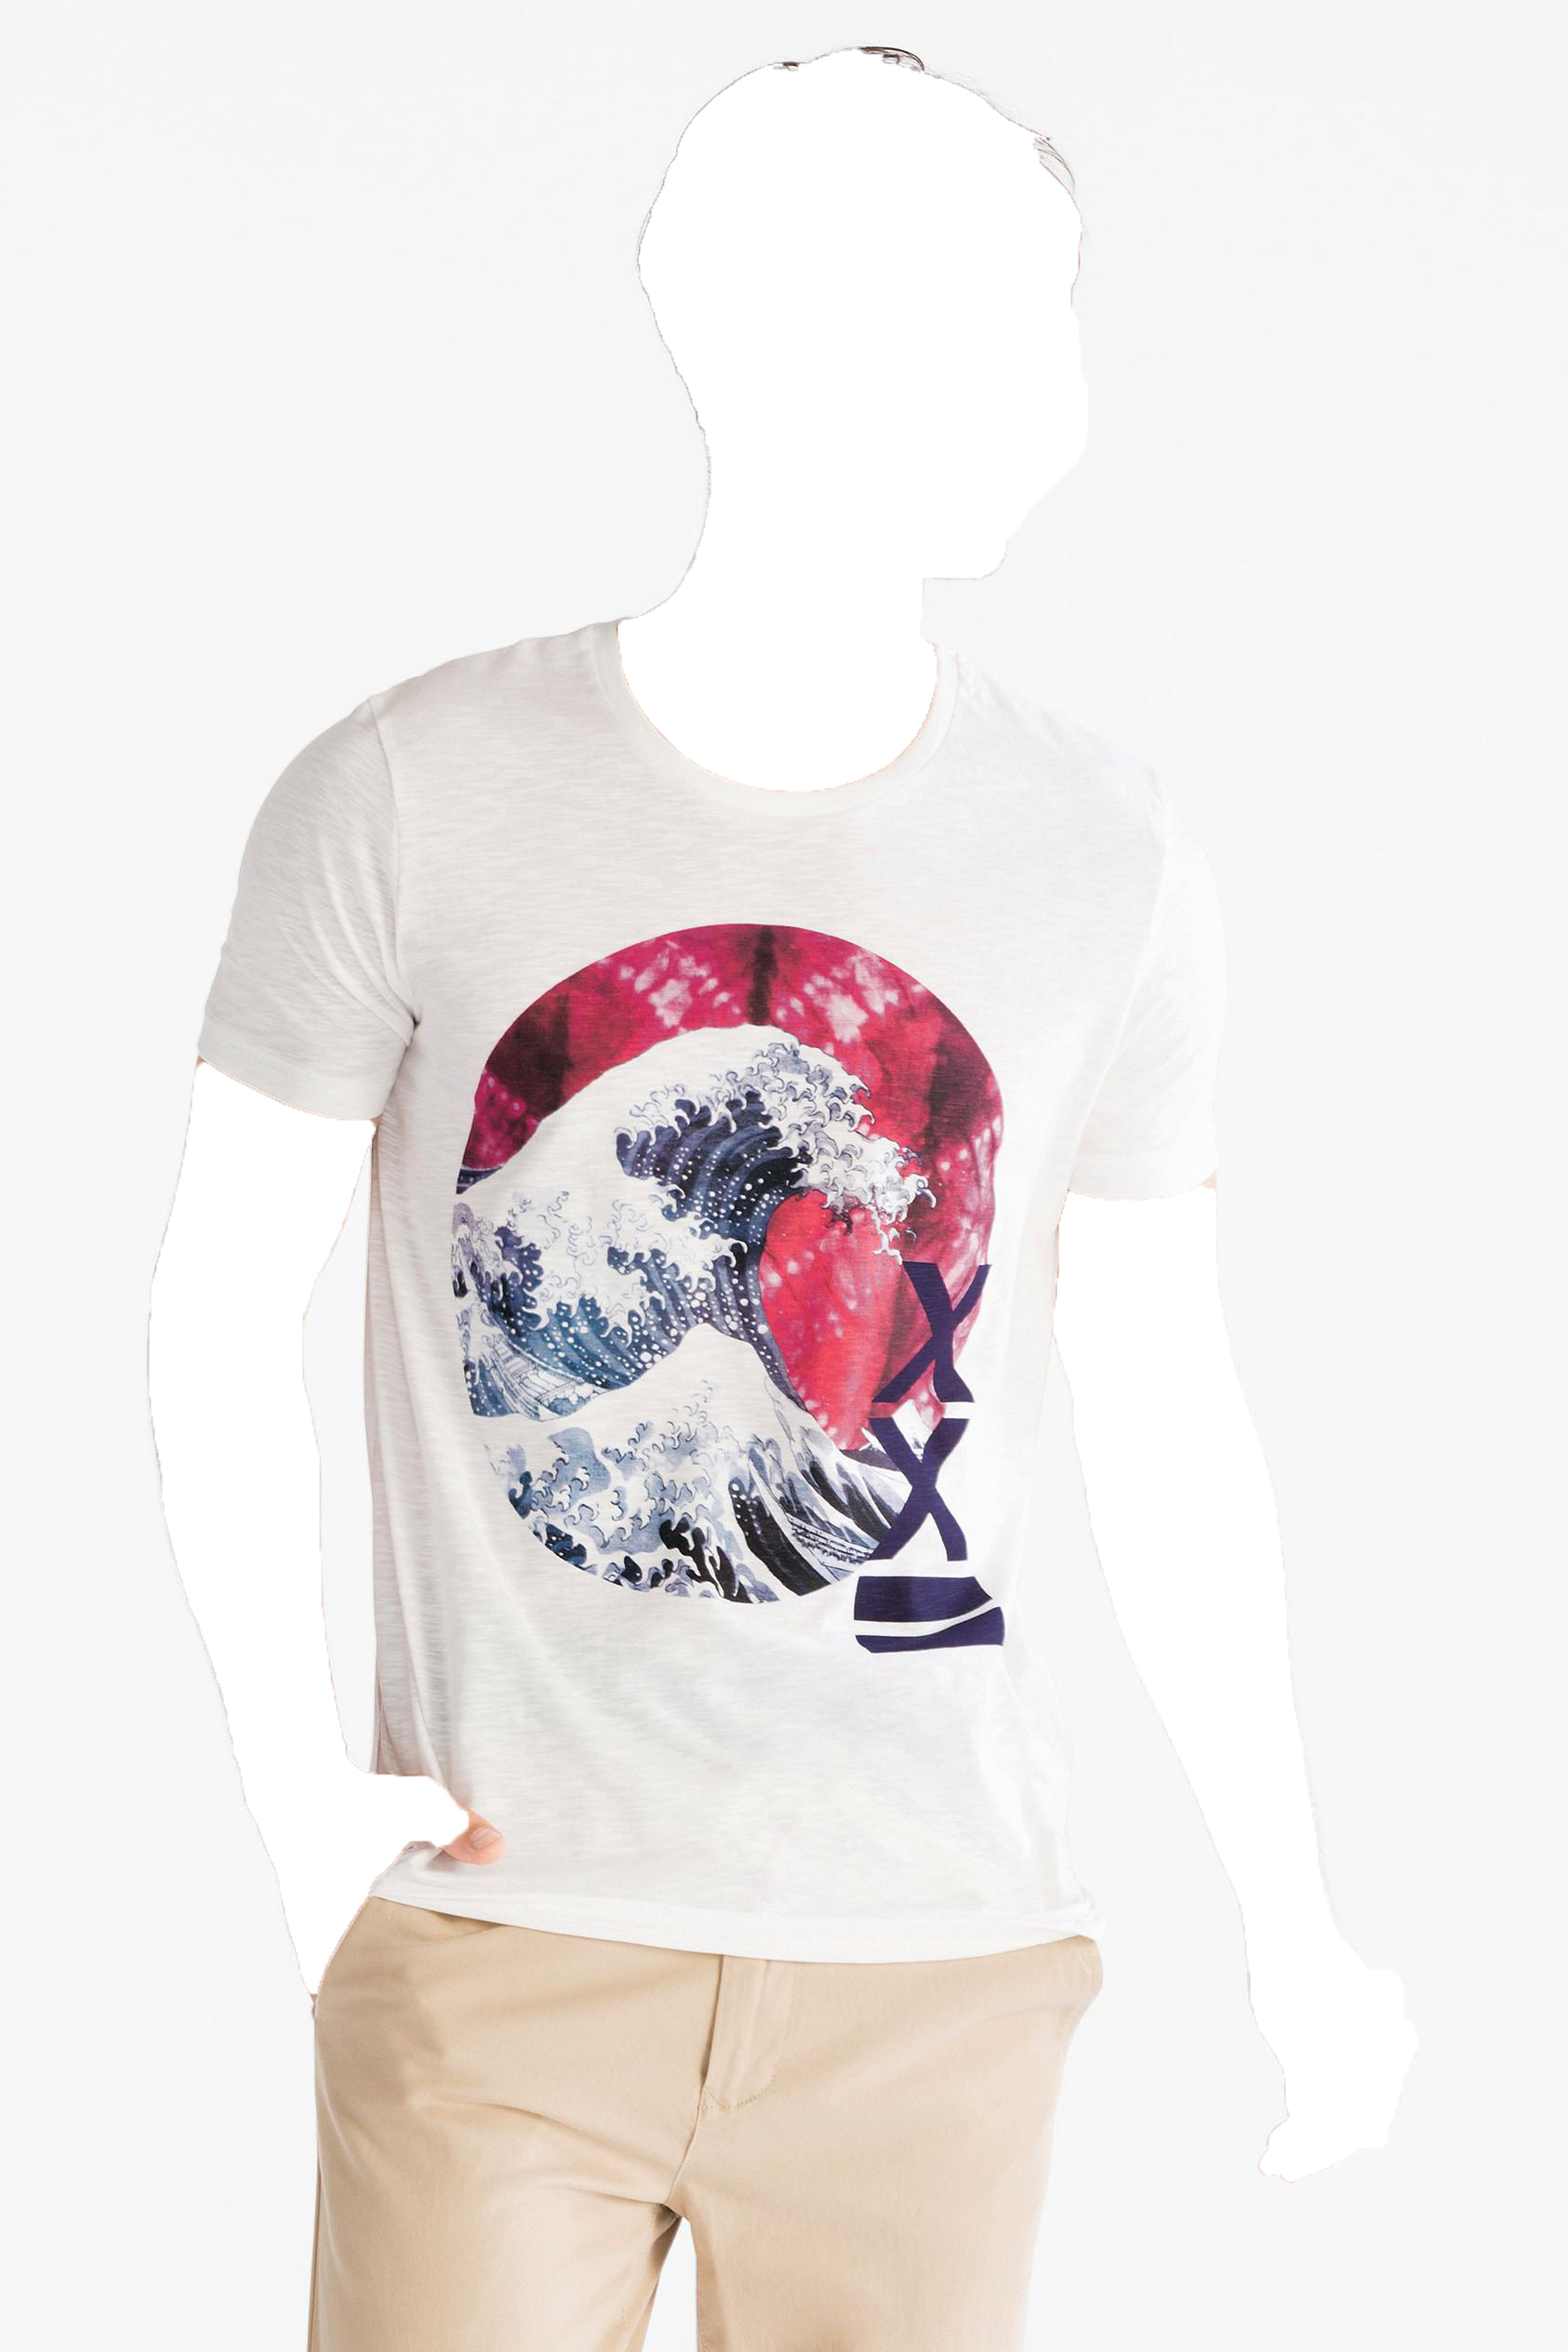teeshirt: (191, 611, 1400, 1974)
